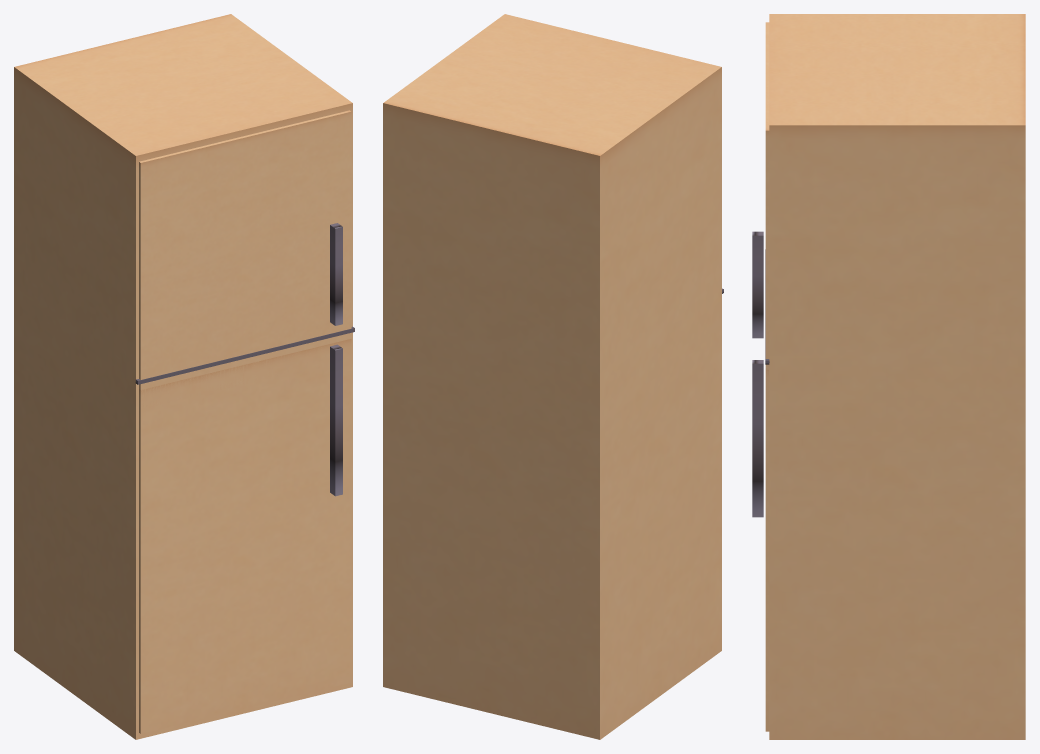
The model's file is Fridge.fbx.
3 renders of one model, left to right at view 1: azimuth 30°, elevation 25°; view 2: azimuth 150°, elevation 25°; view 3: azimuth 270°, elevation 25°, orthographic. The views are drawn at different scales.
Visible parts, largest first — view 1: Fridge; view 2: Fridge; view 3: Fridge.
Part boxes in pixels (x1=…): Fridge: x1=14, y1=14, x2=354, y2=739; Fridge: x1=383, y1=14, x2=723, y2=739; Fridge: x1=752, y1=14, x2=1025, y2=739.
Bounding box in the file's own units: 0.7 × 1.8 × 0.725.
